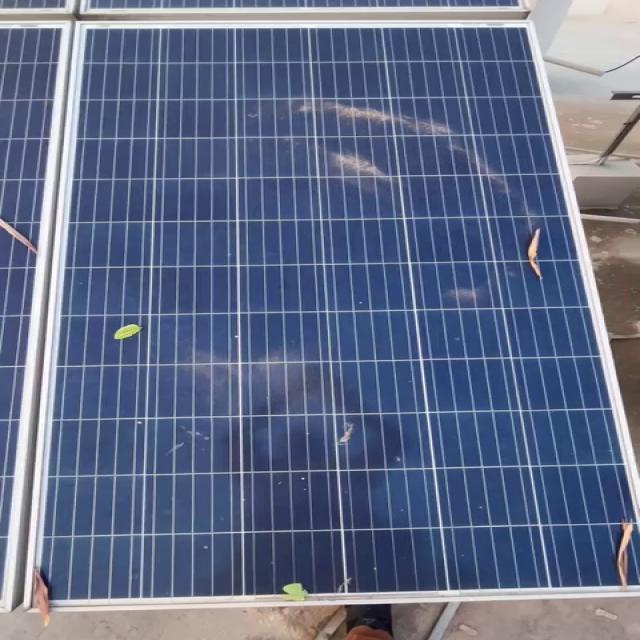dust_partical: (278, 76, 490, 210), (187, 351, 333, 410)
old_leaf: (30, 568, 100, 631), (594, 503, 640, 596), (508, 229, 575, 283), (274, 569, 344, 609), (0, 210, 48, 249), (102, 317, 150, 354)
